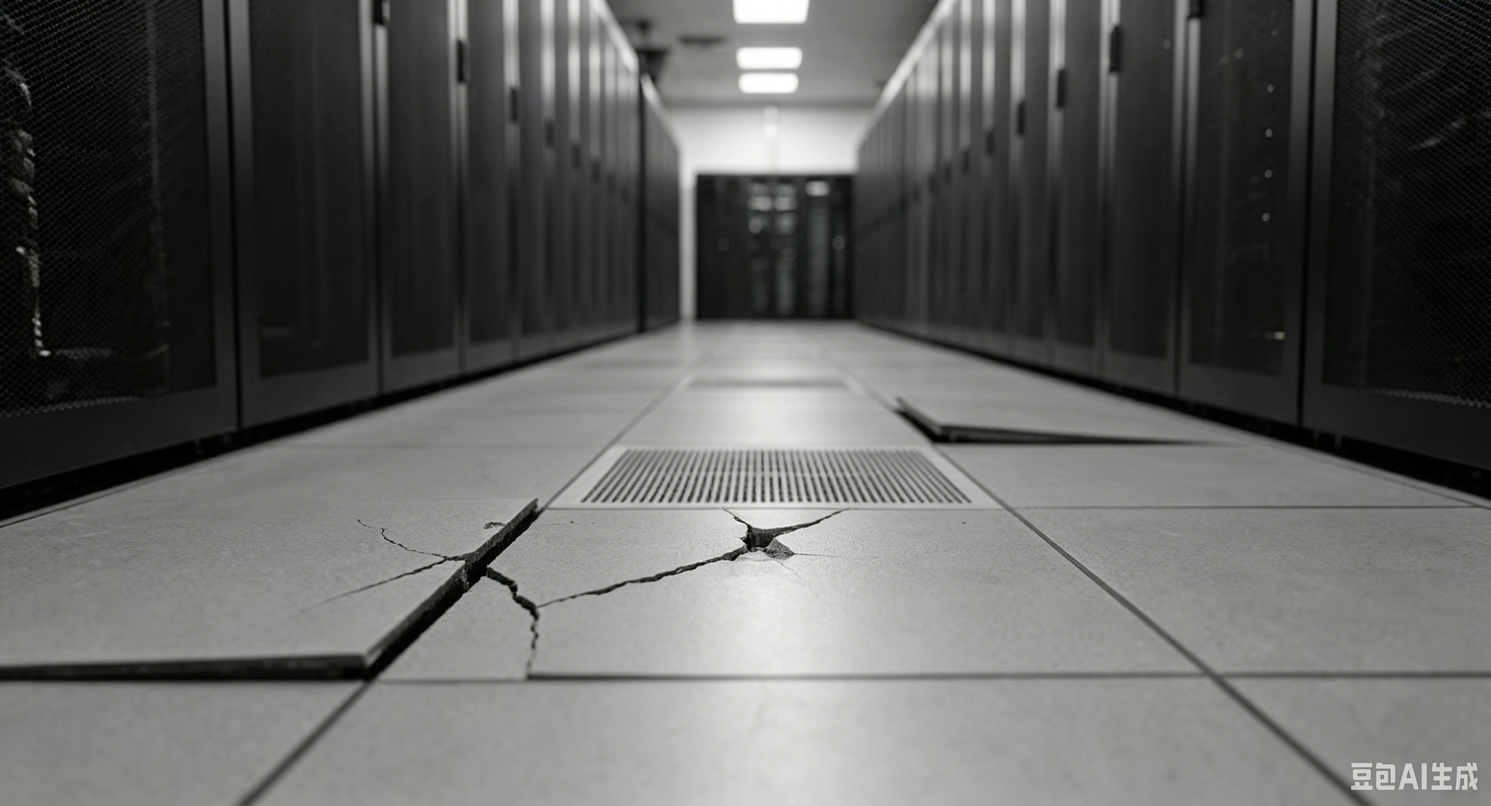floor_defect: (880, 384, 1239, 457), (4, 640, 396, 699), (649, 486, 838, 559), (567, 558, 785, 600), (462, 501, 542, 596), (500, 603, 585, 692), (319, 562, 455, 604), (346, 504, 450, 556)
